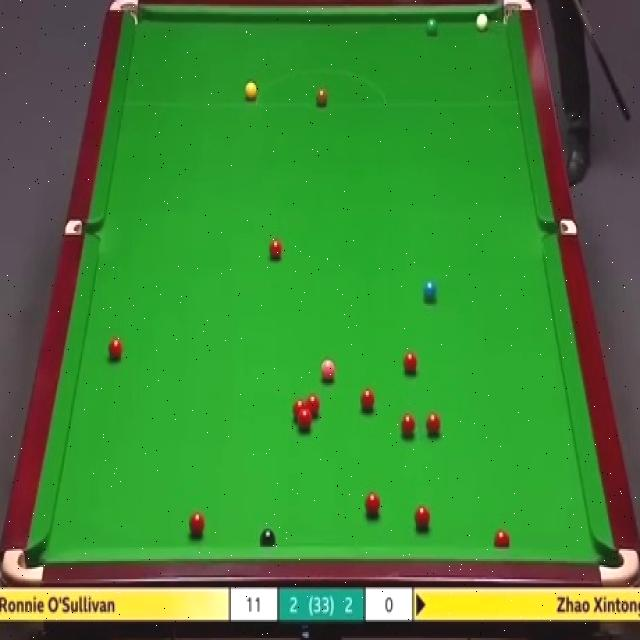black-ball: (259, 528, 278, 549)
blue-ball: (422, 277, 436, 303)
brown-ball: (316, 84, 328, 106)
green-ball: (425, 18, 439, 37)
pink-ball: (320, 360, 337, 384)
red-ball: (414, 506, 432, 533), (188, 510, 205, 538), (357, 386, 375, 412), (400, 412, 418, 438), (425, 412, 442, 438), (403, 349, 419, 376), (364, 493, 381, 518), (292, 399, 307, 424), (107, 335, 122, 360), (270, 236, 282, 264), (307, 394, 320, 418), (493, 529, 511, 546), (298, 412, 313, 432)
white-ball: (477, 12, 489, 33)
yellow-ball: (244, 83, 257, 100)
